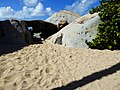human_footprint: (19, 80, 31, 90), (44, 68, 57, 76), (19, 65, 27, 73), (39, 77, 44, 88), (26, 72, 33, 78)
